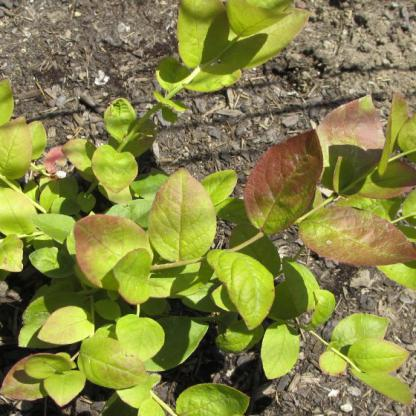blueberry leaf: (36, 300, 172, 393), (59, 211, 174, 306), (241, 121, 330, 242), (285, 193, 415, 272), (326, 313, 415, 410), (146, 157, 218, 265), (204, 246, 279, 328), (171, 1, 233, 80), (85, 141, 141, 200), (1, 110, 48, 180), (260, 314, 304, 386), (172, 381, 244, 415)
